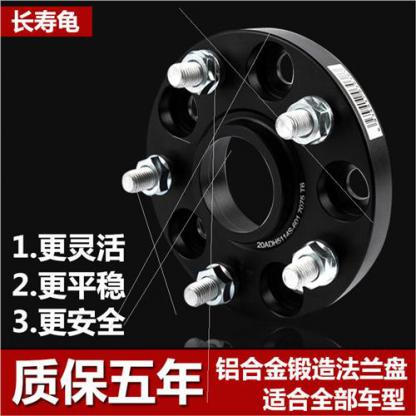FOD: (133, 21, 397, 335)
